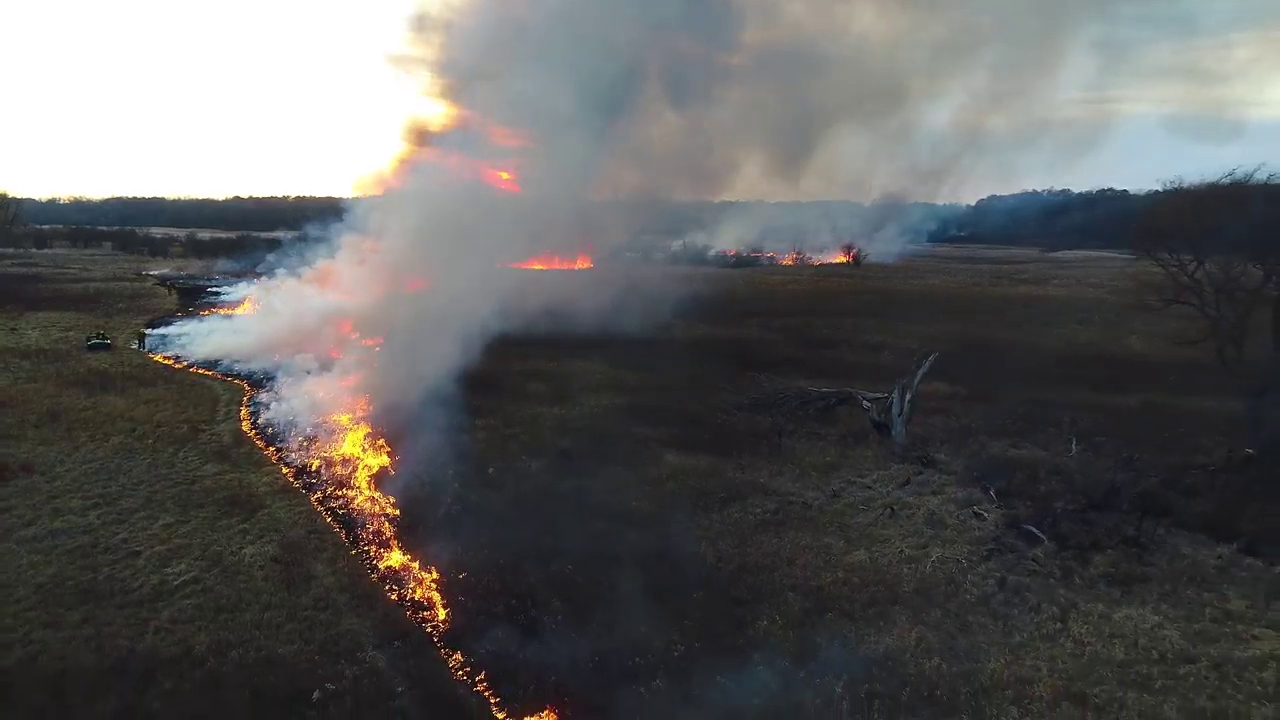forest_fire: (148, 352, 512, 718), (778, 244, 863, 264), (508, 251, 593, 268), (201, 295, 256, 313), (522, 707, 557, 718)
